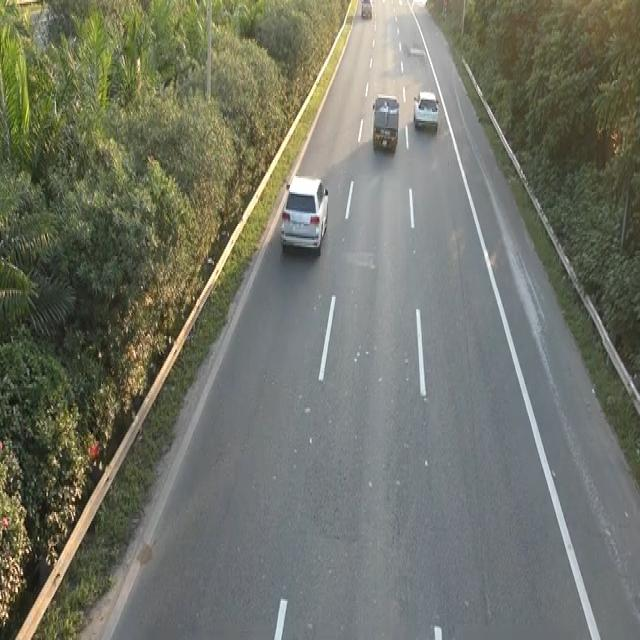car: (278, 171, 332, 261), (412, 87, 439, 132)
minivan: (371, 92, 399, 153)
